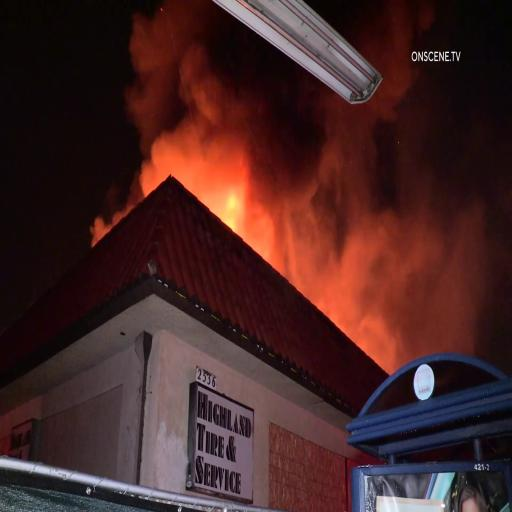smoke: (154, 71, 306, 170)
